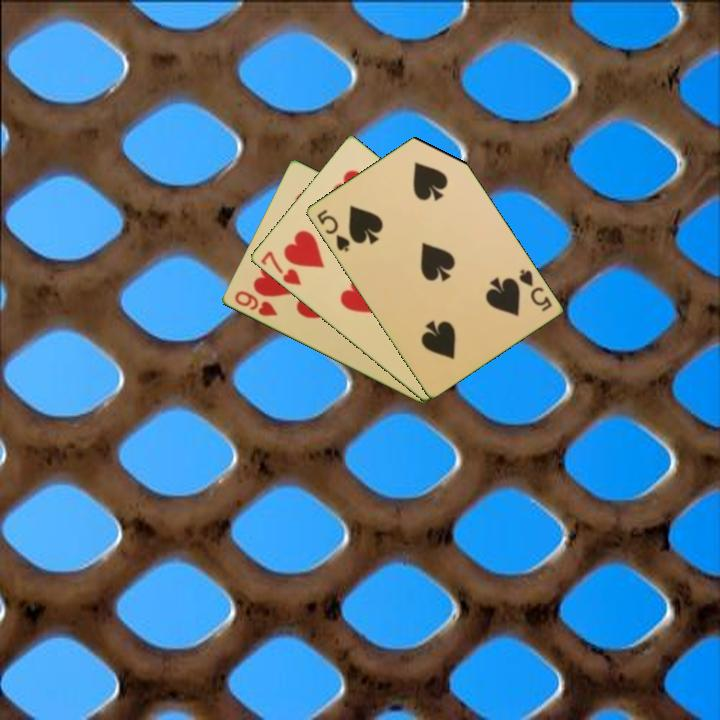5s: (313, 205, 353, 255), (515, 265, 555, 314)
7h: (257, 247, 304, 288)
9h: (231, 287, 280, 319)
